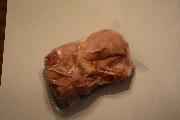chicken: (38, 18, 150, 120)
